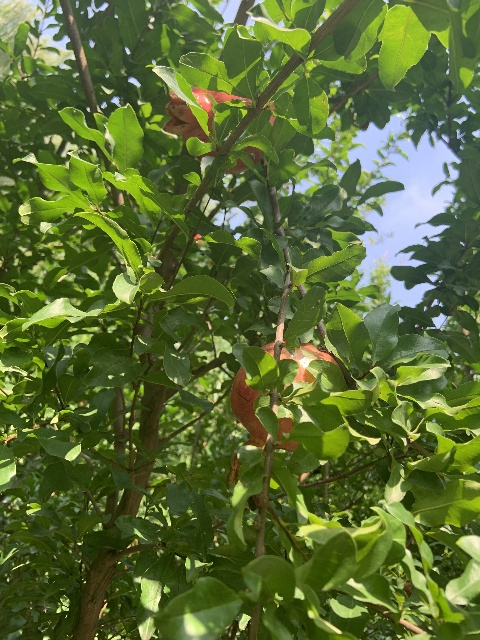ripe: (227, 338, 341, 511), (162, 85, 277, 174)
